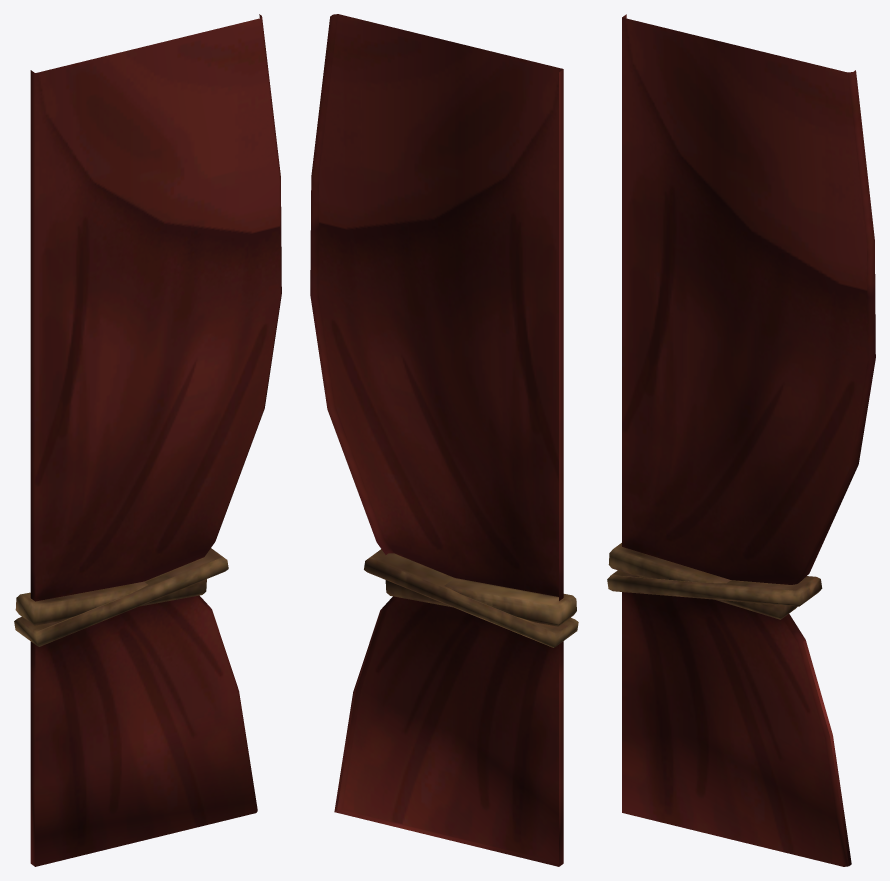
Rendered from EndLevelCurtains_LeftFrame.obj.
The picture shows the model from 3 angles, left to right: view 1: azimuth 30°, elevation 25°; view 2: azimuth 150°, elevation 25°; view 3: azimuth 330°, elevation 25°; orthographic projection.
Visible parts, largest first — view 1: Model_EndLevelCurtains_LeftFrame; view 2: Model_EndLevelCurtains_LeftFrame; view 3: Model_EndLevelCurtains_LeftFrame.
Part boxes in pixels (x1,y1,x2,y2): Model_EndLevelCurtains_LeftFrame: [14, 14, 281, 866]; Model_EndLevelCurtains_LeftFrame: [310, 14, 578, 866]; Model_EndLevelCurtains_LeftFrame: [607, 14, 875, 866].
Bounding box in the file's own units: 2.29 × 6.8 × 0.3463.
1 material, 1 textured.
